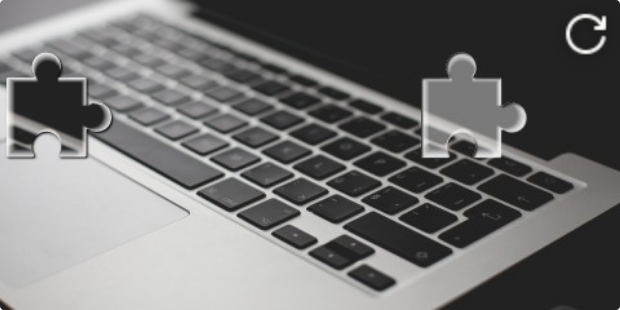target: (422, 52, 528, 158)
